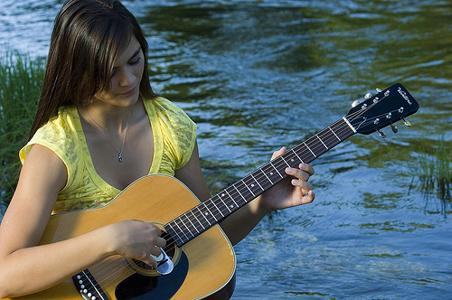person: (3, 2, 315, 300)
